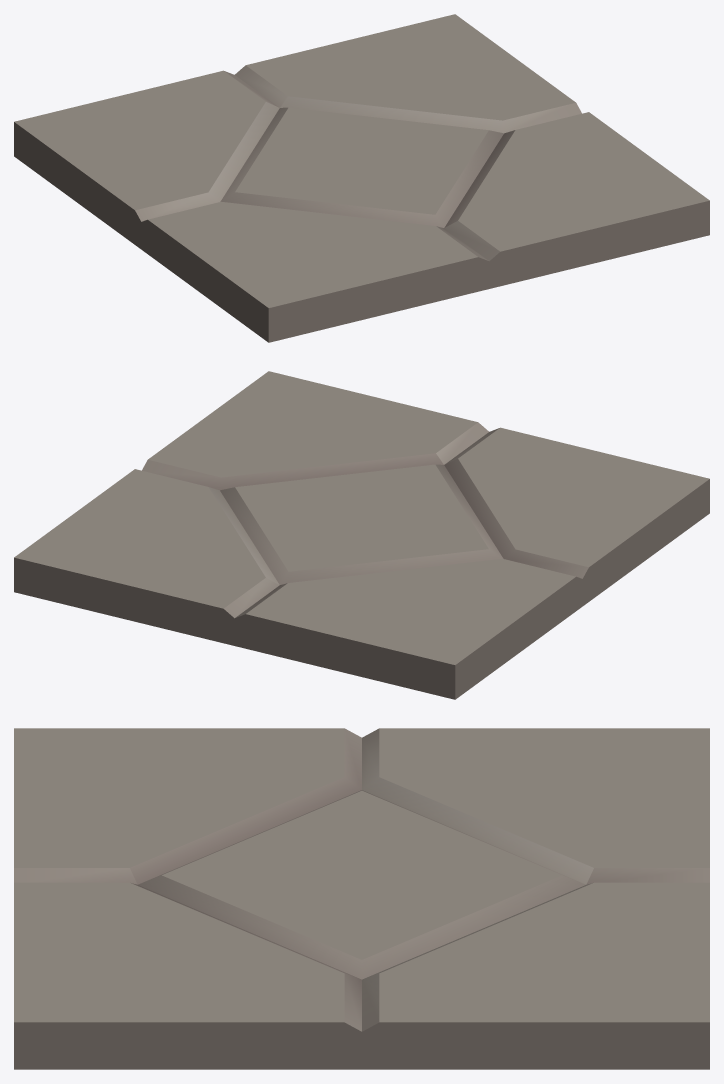
Rendered from floor_tile_small.glb.
3 renders of one model, top to bottom at view 1: azimuth 30°, elevation 25°; view 2: azimuth 150°, elevation 25°; view 3: azimuth 270°, elevation 25°, orthographic. The views are drawn at different scales.
Parts seen in each view (by area): view 1: floor_tile_small; view 2: floor_tile_small; view 3: floor_tile_small.
Part boxes in pixels (bbox=[...]): floor_tile_small: bbox=[14, 14, 709, 342]; floor_tile_small: bbox=[14, 371, 709, 699]; floor_tile_small: bbox=[14, 728, 709, 1069].
Size of the model in its own units: 2 by 0.15 by 2.
1 material, 1 textured.
